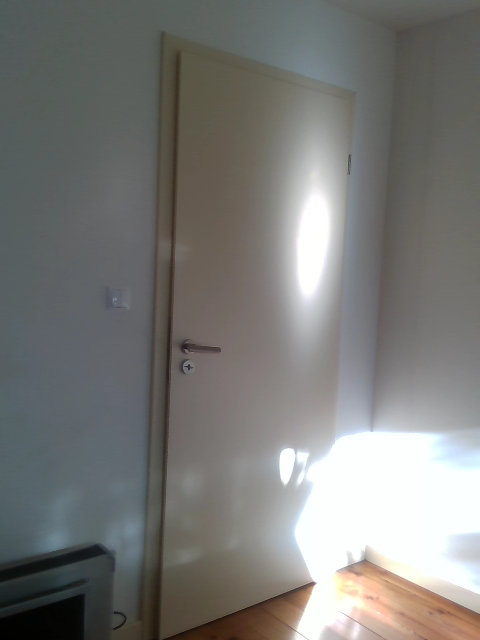closed: (137, 31, 358, 633)
